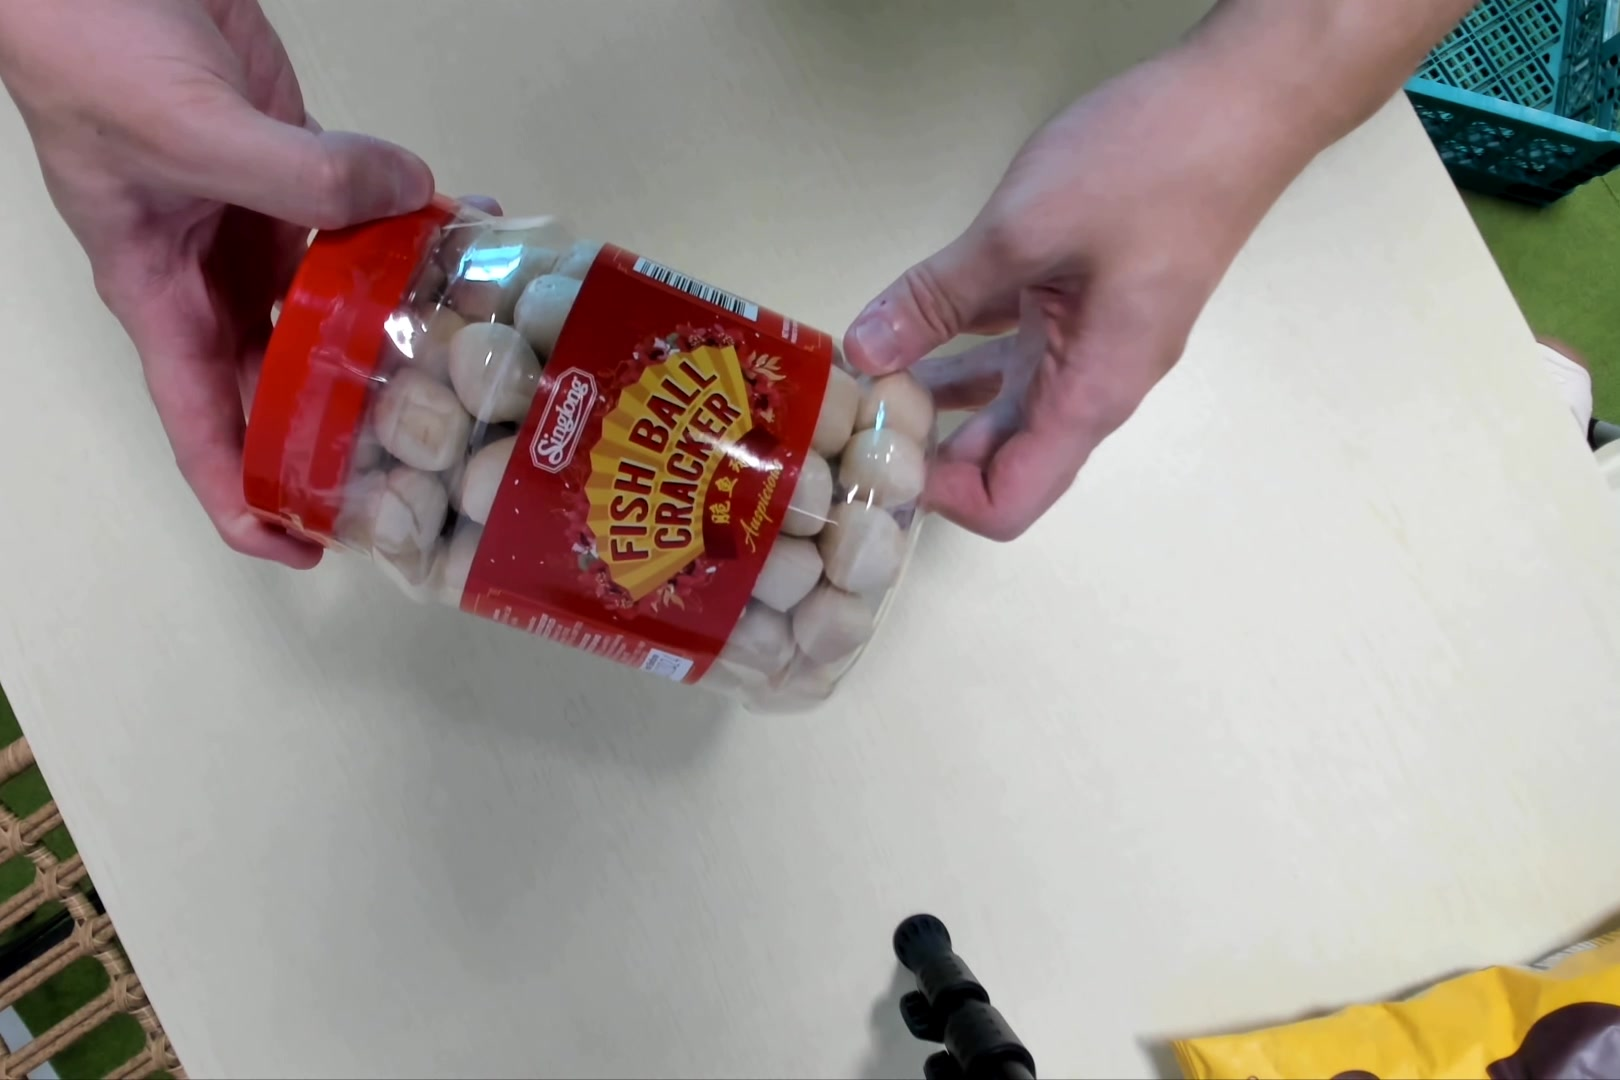PotatoChipsKeropok_100-199g_NonHalal_NonHealthy: (250, 184, 935, 702)
